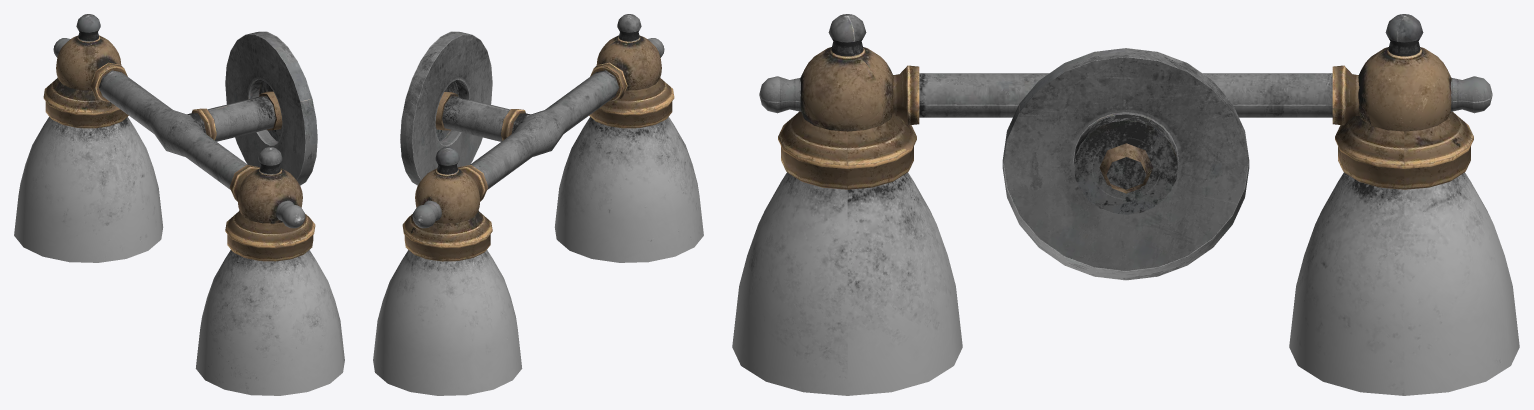
The model's file is Lamp2.glb.
3 views of the same model, side by side, from view 1: azimuth 30°, elevation 25°; view 2: azimuth 150°, elevation 25°; view 3: azimuth 270°, elevation 25° (orthographic). The views are drawn at different scales.
Parts seen in each view (by area): view 1: defaultMaterial; view 2: defaultMaterial; view 3: defaultMaterial.
Boxes of the visible parts, bbox=[...] form: defaultMaterial: bbox=[14, 14, 344, 395]; defaultMaterial: bbox=[373, 14, 703, 395]; defaultMaterial: bbox=[732, 14, 1519, 395].
Size of the model in its own units: 0.7728 by 1.02 by 2.
Materials: 1 (1 with a texture image).
